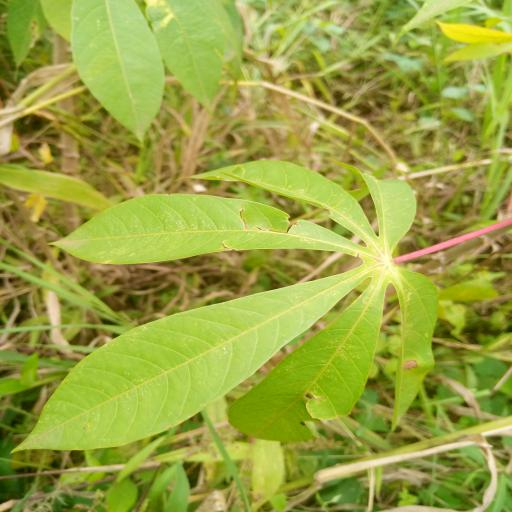Cassava_Mosaic: (2, 158, 454, 461)
